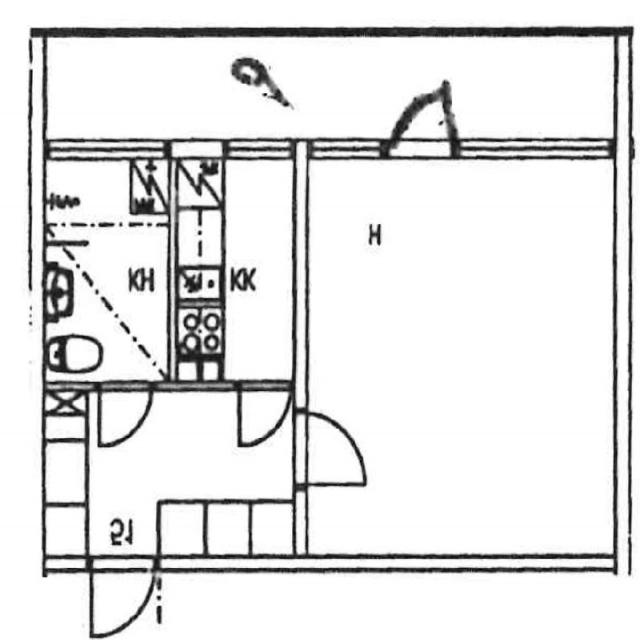door: (388, 60, 457, 159), (294, 413, 371, 484), (91, 554, 154, 640), (98, 380, 152, 453), (239, 380, 290, 450)
